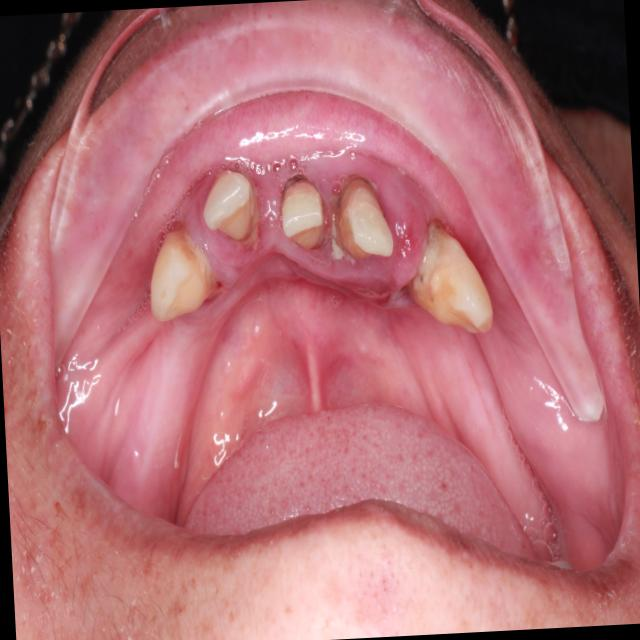tooth: (397, 200, 501, 351), (142, 222, 220, 328), (330, 162, 398, 277), (198, 160, 264, 252), (273, 168, 330, 258)
